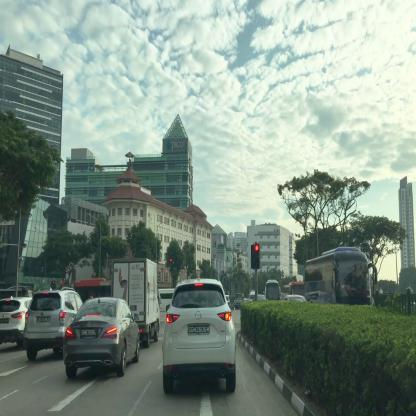red_traffic_light: (255, 242, 260, 270)
